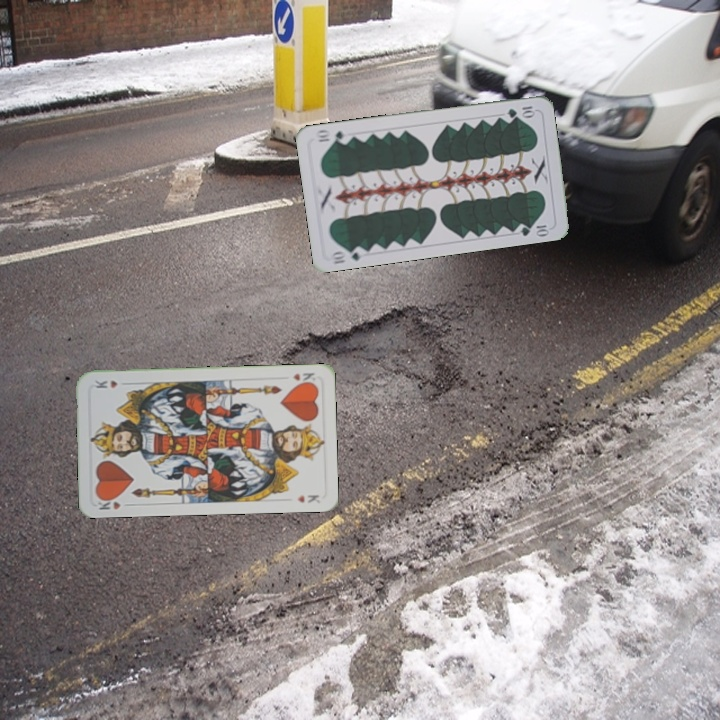G10: (327, 243, 368, 266), (503, 102, 537, 120)
HK: (93, 493, 134, 512), (289, 369, 317, 387)
